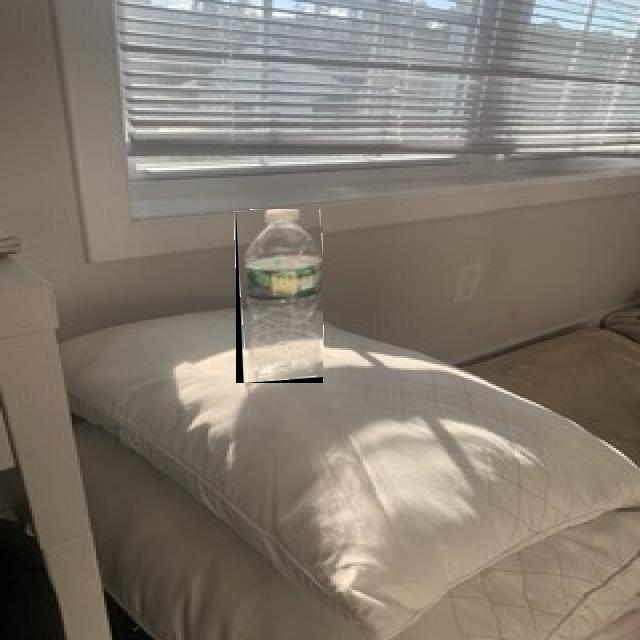water_bottle: (236, 209, 323, 383)
